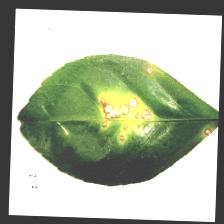canker: (87, 77, 219, 157)
